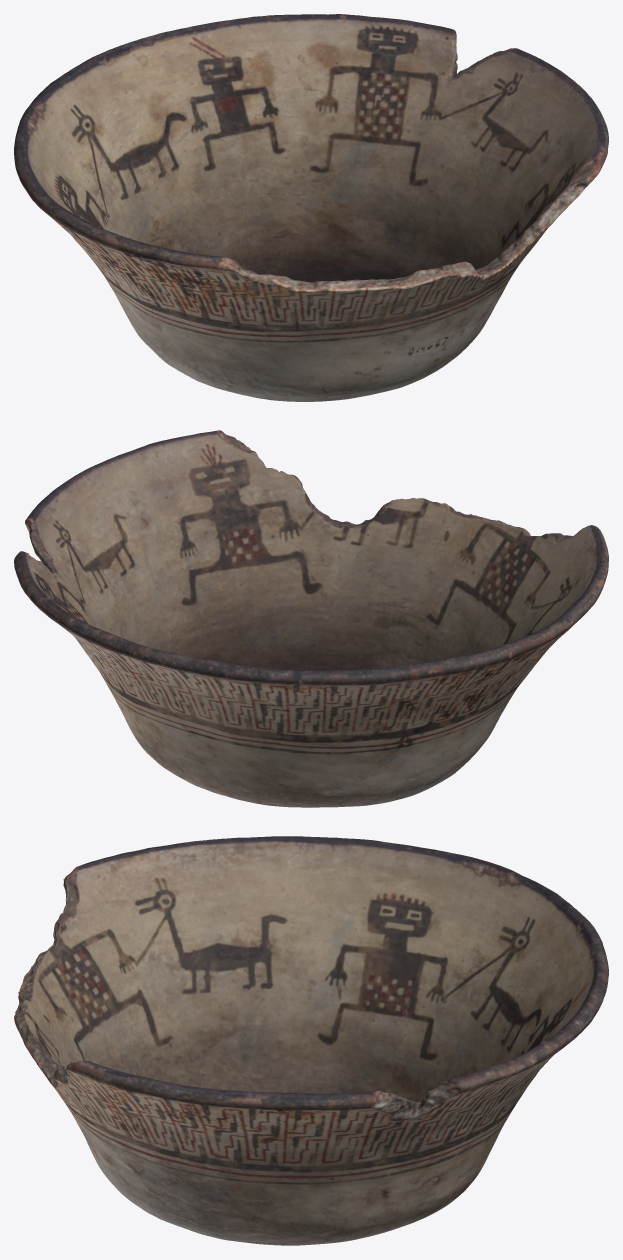
Rendered from modelo2.glb.
3 renders of one model, top to bottom at view 1: azimuth 30°, elevation 25°; view 2: azimuth 150°, elevation 25°; view 3: azimuth 270°, elevation 25°, orthographic. The views are drawn at different scales.
Visible parts, largest first — view 1: Object_2, Object_3, Object_4, Object_5, Object_6, Object_7; view 2: Object_5, Object_3, Object_4, Object_2, Object_6, Object_7; view 3: Object_3, Object_4, Object_2, Object_5, Object_6, Object_7.
Boxes of the visible parts, bbox=[...] form: Object_2: bbox=[15, 16, 597, 401]; Object_3: bbox=[14, 16, 606, 401]; Object_4: bbox=[27, 14, 608, 395]; Object_5: bbox=[14, 14, 607, 401]; Object_6: bbox=[14, 14, 608, 401]; Object_7: bbox=[15, 14, 608, 401]; Object_5: bbox=[14, 430, 608, 807]; Object_3: bbox=[21, 444, 606, 805]; Object_4: bbox=[14, 431, 607, 807]; Object_2: bbox=[17, 433, 608, 807]; Object_6: bbox=[15, 430, 608, 806]; Object_7: bbox=[17, 434, 607, 807]; Object_3: bbox=[14, 836, 604, 1244]; Object_4: bbox=[20, 836, 608, 1245]; Object_2: bbox=[14, 840, 606, 1245]; Object_5: bbox=[15, 836, 606, 1245]; Object_6: bbox=[15, 836, 608, 1244]; Object_7: bbox=[17, 837, 606, 1244].
Size of the model in its own units: 226 by 91.34 by 207.
Materials: 1 (1 with a texture image).
